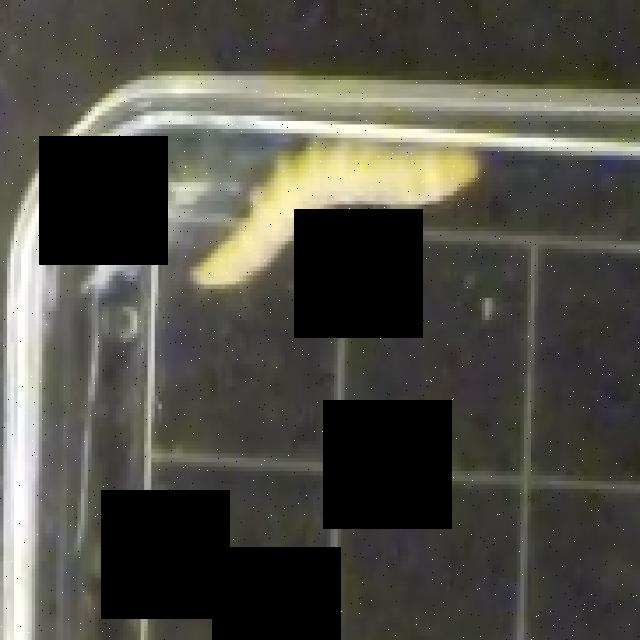larva: (188, 148, 487, 294)
